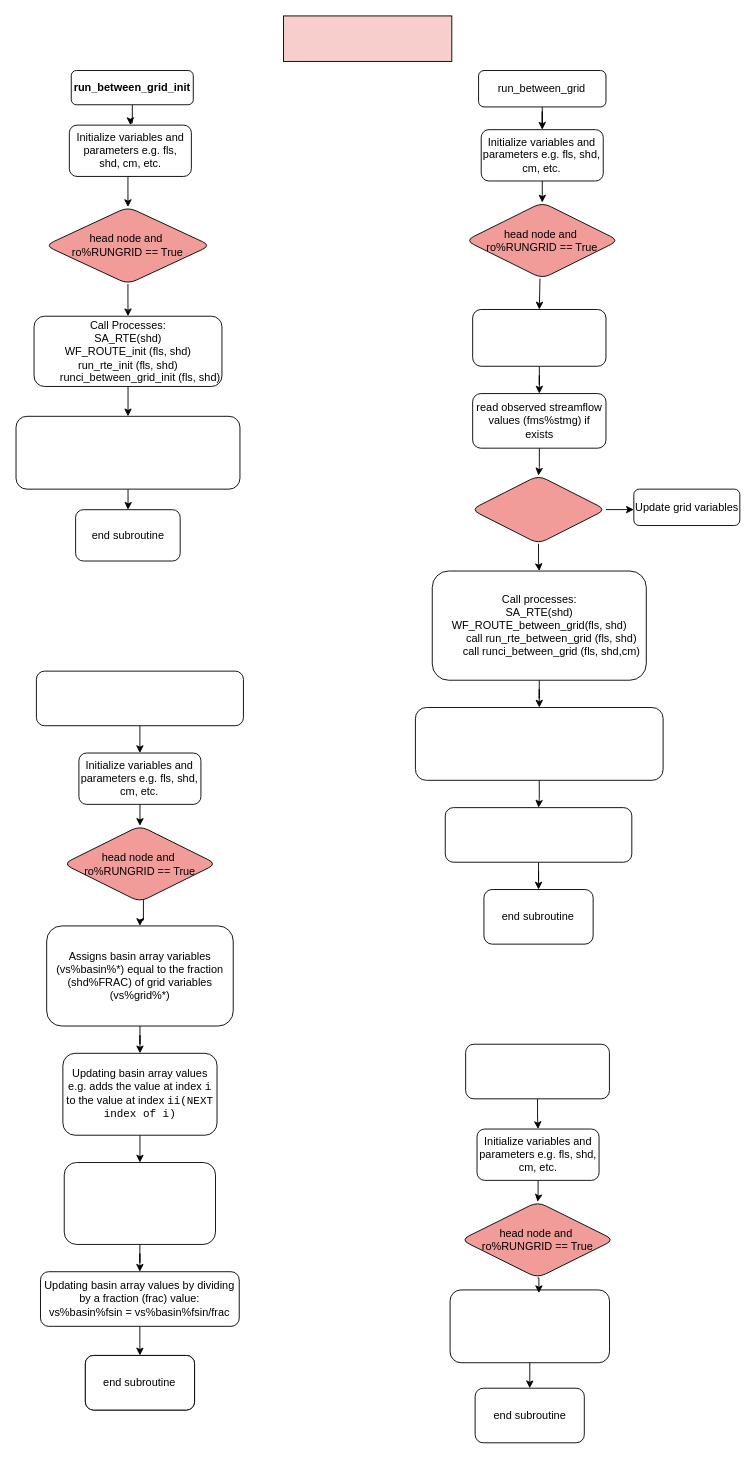
This 756x1459 diagram has some shape labels left out. Here are the shapes that lost their labels. From the top down, the centre of each, then its label:
(367,38): sa_mesh_run_between_grid.f90
(539,337): read reservoir release values (fms%rsvr) if exists
(127,452): call run_within_grid_stas_basin_update(fls, shd, cm): update basin variables
(538,509): ro%RUNLSS == True
(139,698): run_within_grid_stas_basin_update
(539,743): call run_within_grid_stas_basin_update (fls, shd,cm): update basin variables
(538,834): call output_variables_update(shd): update output variables
(537,1071): run_between_grid_finalize
(139,1203): Updating relative area function: frac(ii) = frac(ii) + frac(i)
(529,1326): Call processes: WF_ROUTE_finalize (fls, shd) run_rte_finalize (fls, shd)
